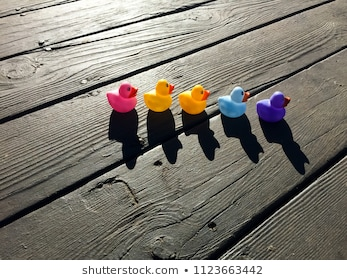duck: (102, 79, 146, 118), (140, 74, 178, 119), (213, 75, 250, 120), (176, 81, 214, 118), (253, 86, 292, 122)
